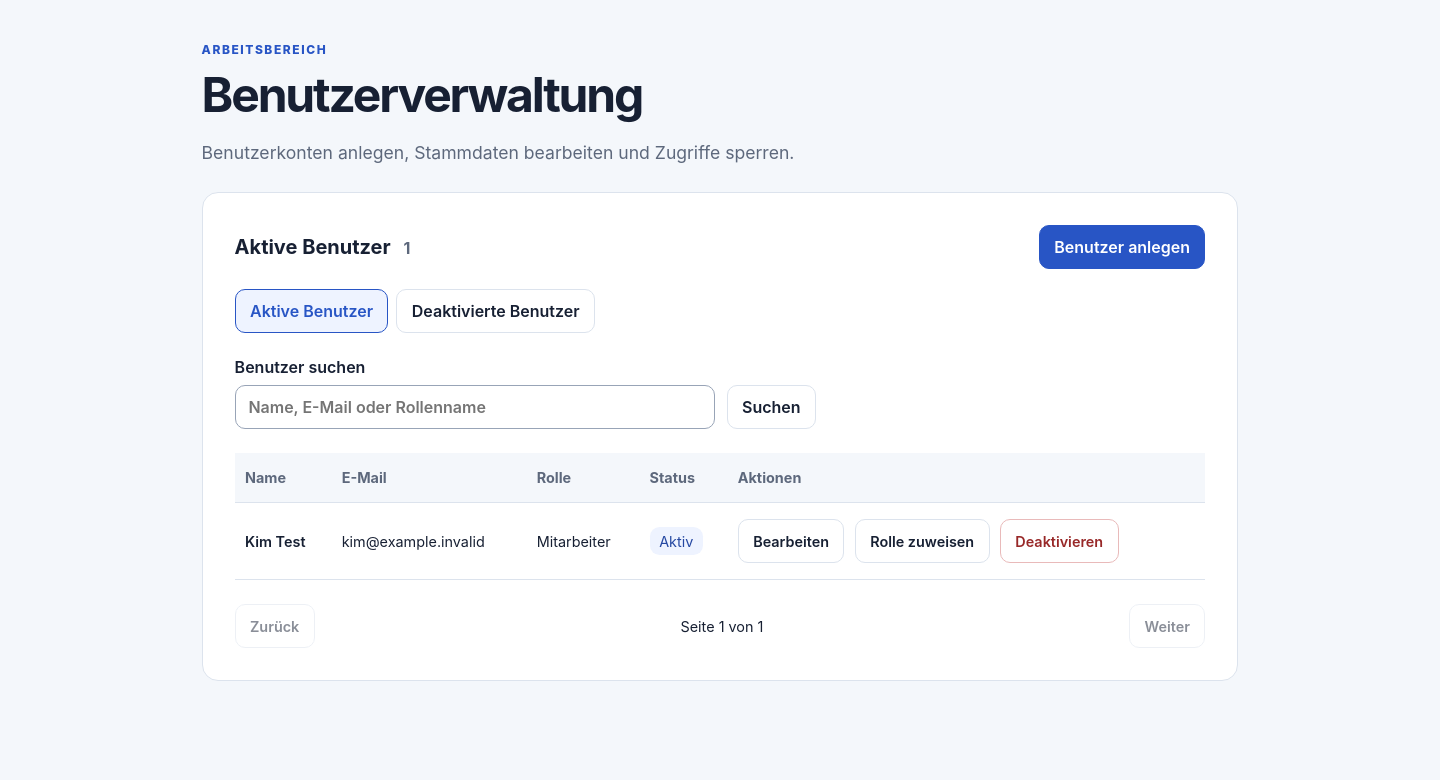
Test: Benutzerverwaltung › entfernt das initiale Passwort nach einem fehlgeschlagenen Anlageversuch
Check: the text "kim@example.invalid" is shown, box [331,503,526,580]
Click the button "Benutzer anlegen": (1122, 247) [1039,225,1205,269]
(page scrolled)
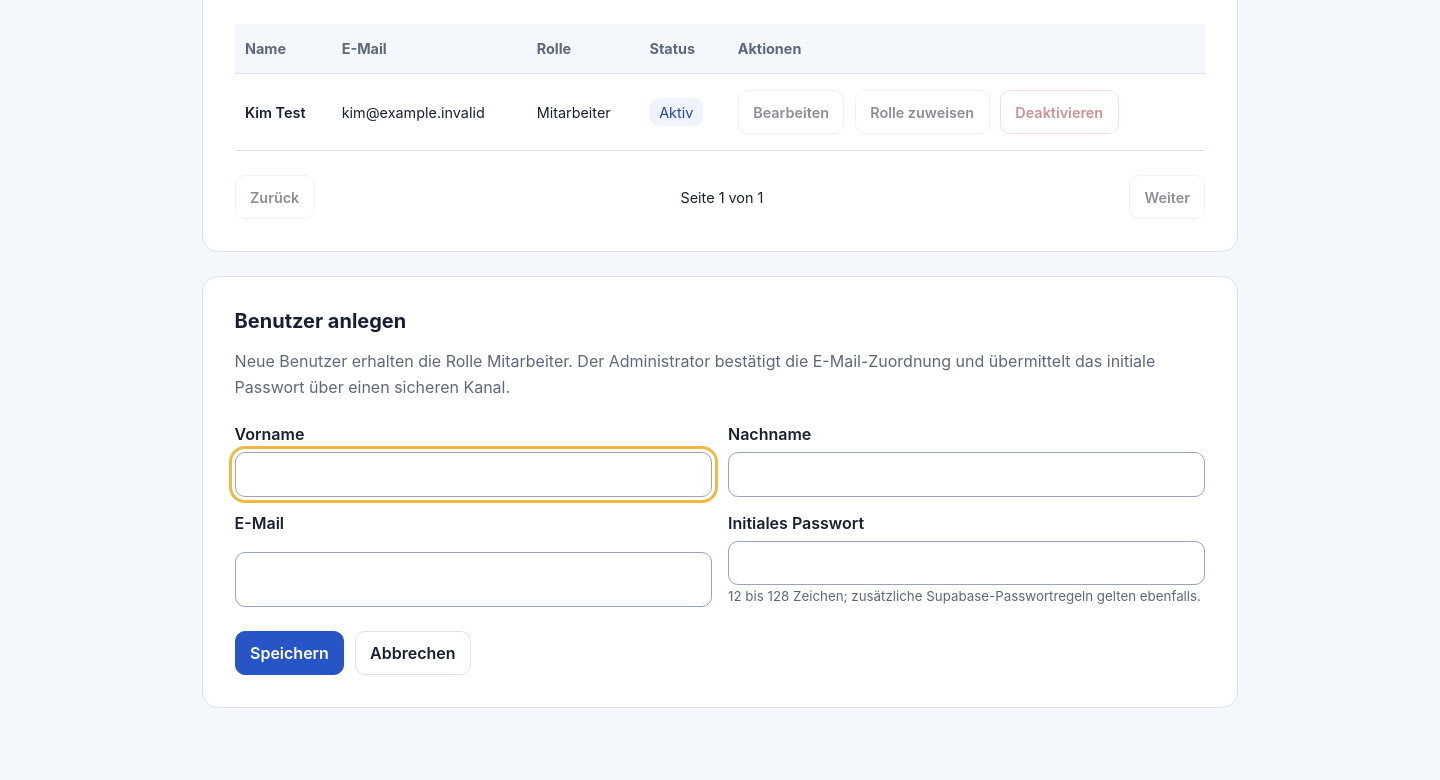
In the field labelled "Vorname": (473, 474) [235,452,712,497], type "Robin"
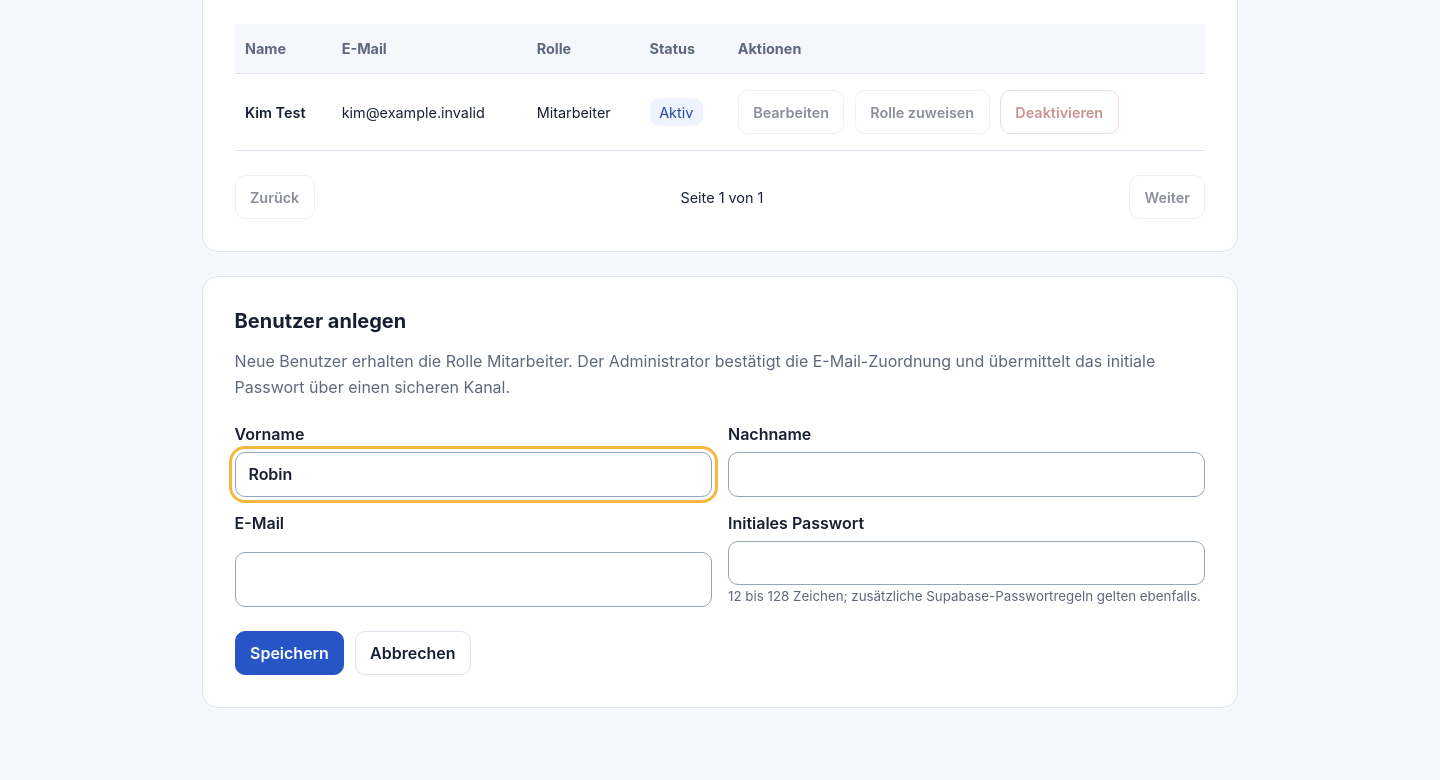
In the field labelled "Nachname": (967, 474) [728,452,1205,497], type "Neu"
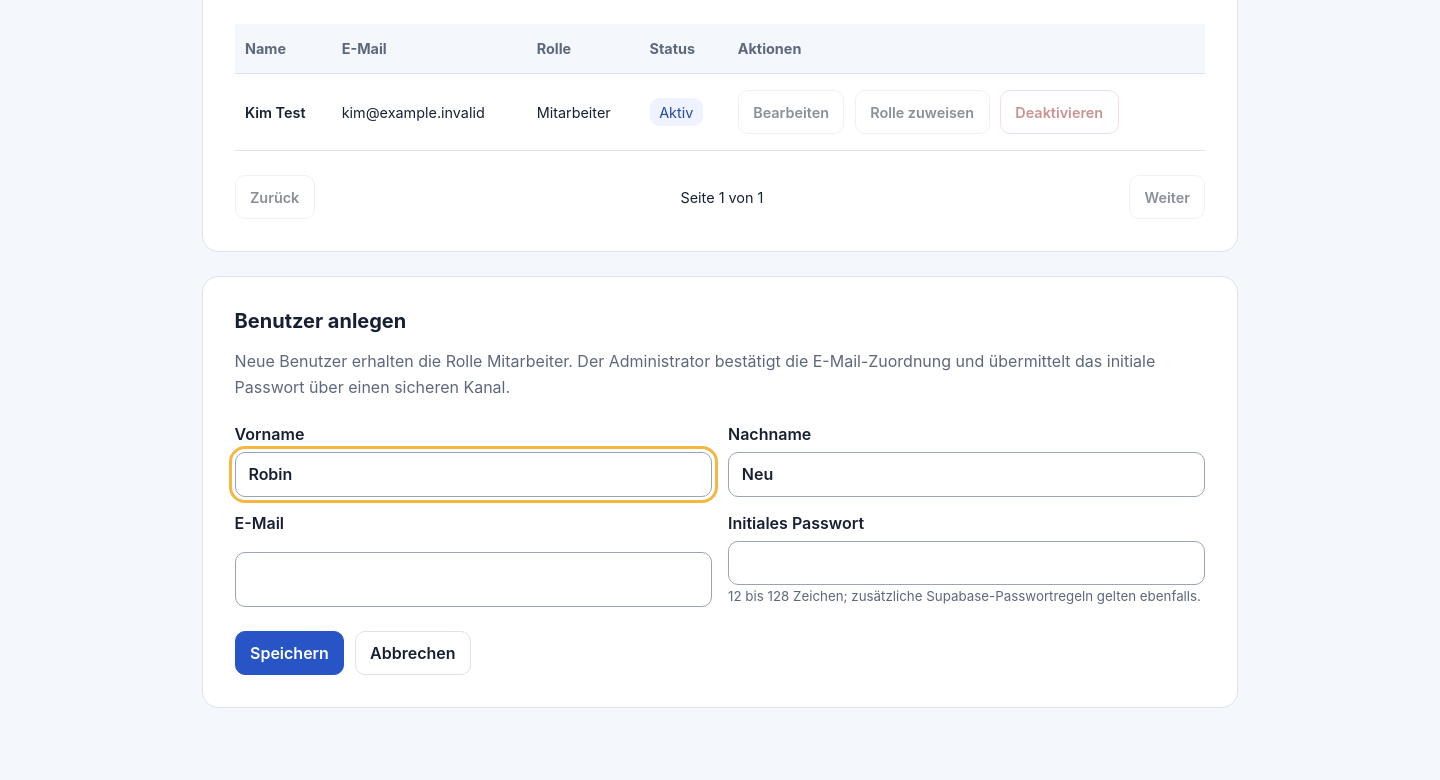
In the field labelled "E-Mail": (473, 580) [235,552,712,607], type "kim@example.invalid"
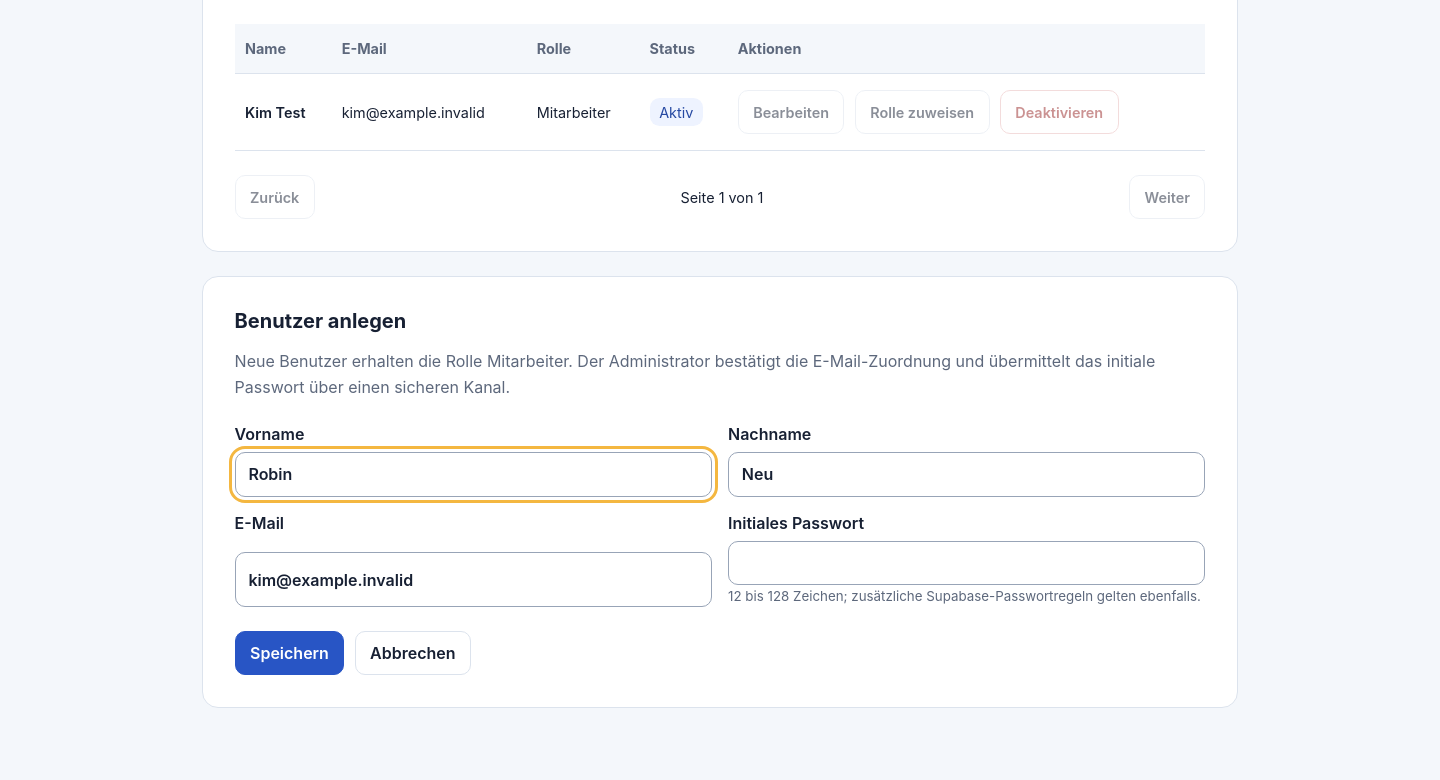
In the password field labelled "Initiales Passwort": (967, 563) [728,541,1205,585], type "a-long-initial-password"
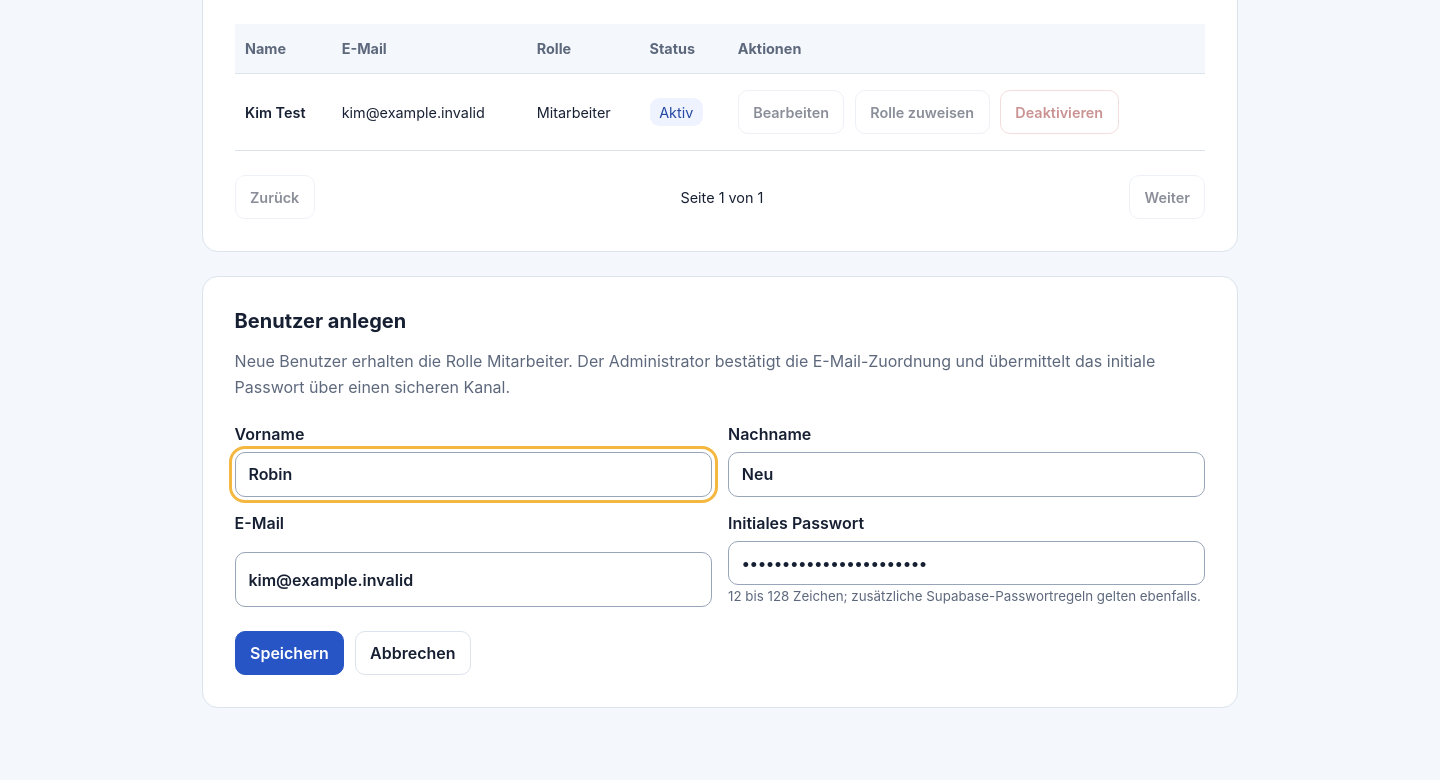
Click the button "Speichern": (289, 653) [235,631,344,675]
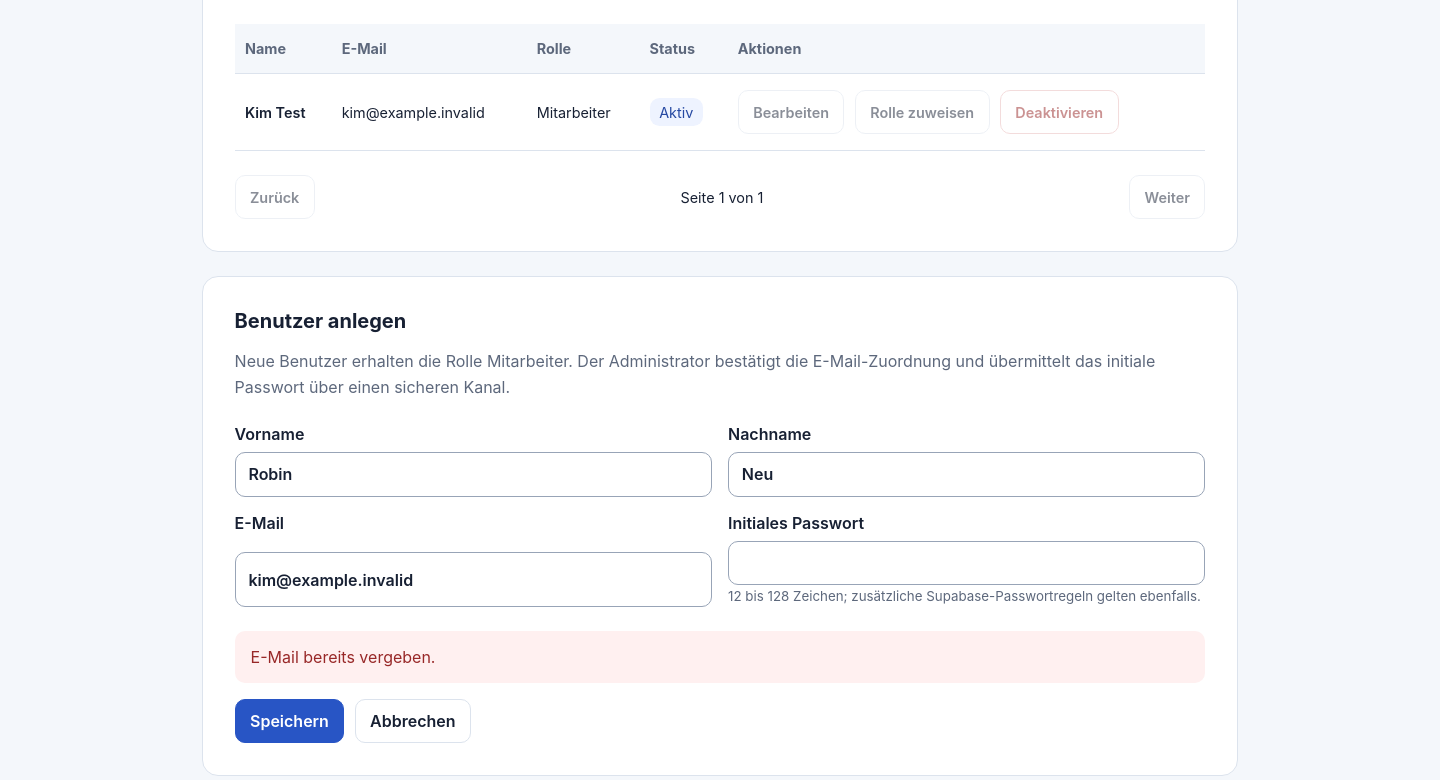
Check: the message "E-Mail bereits vergeben." is shown, box [235,631,1205,683]
Check: the password field labelled "Initiales Passwort" is empty, box [728,541,1205,585]
